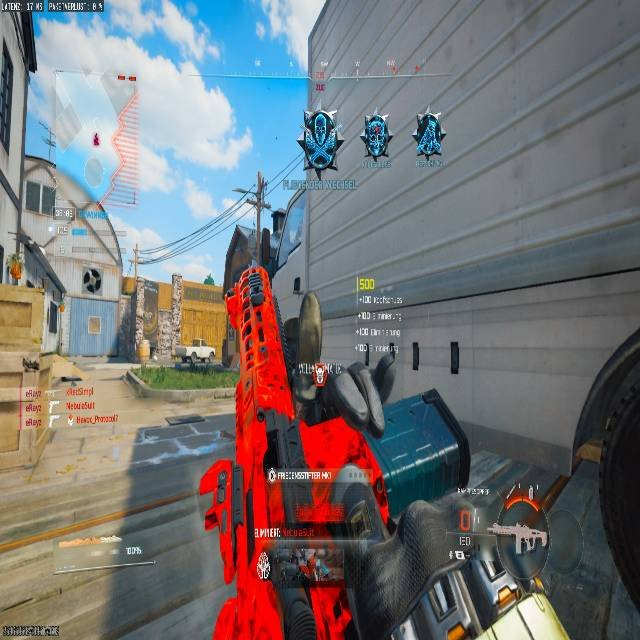player: (360, 114, 391, 160)
